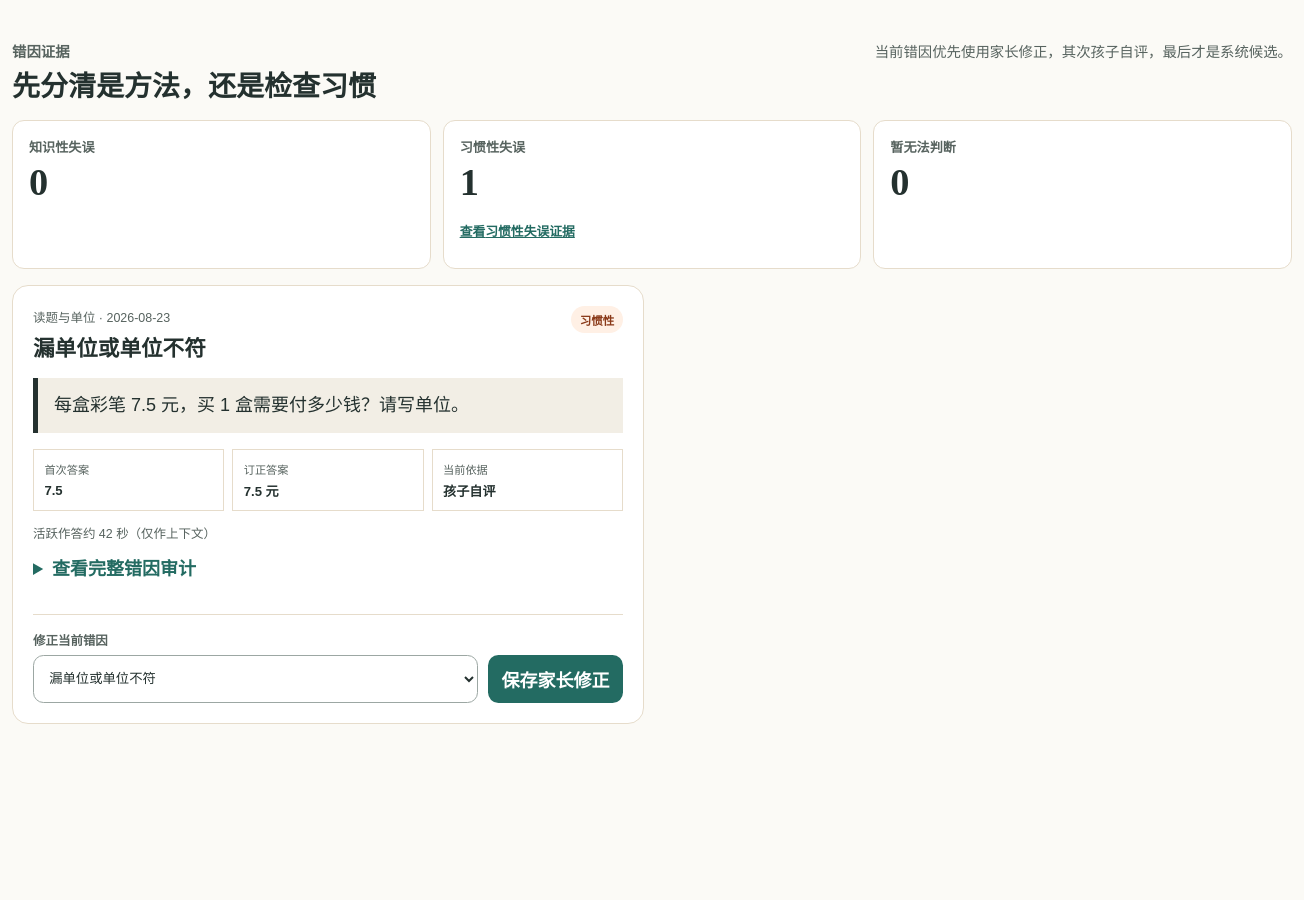
keeps the original audit visible when a correction fails
Click the button "保存家长修正". click: (555, 679)
box: [488,655,623,703]
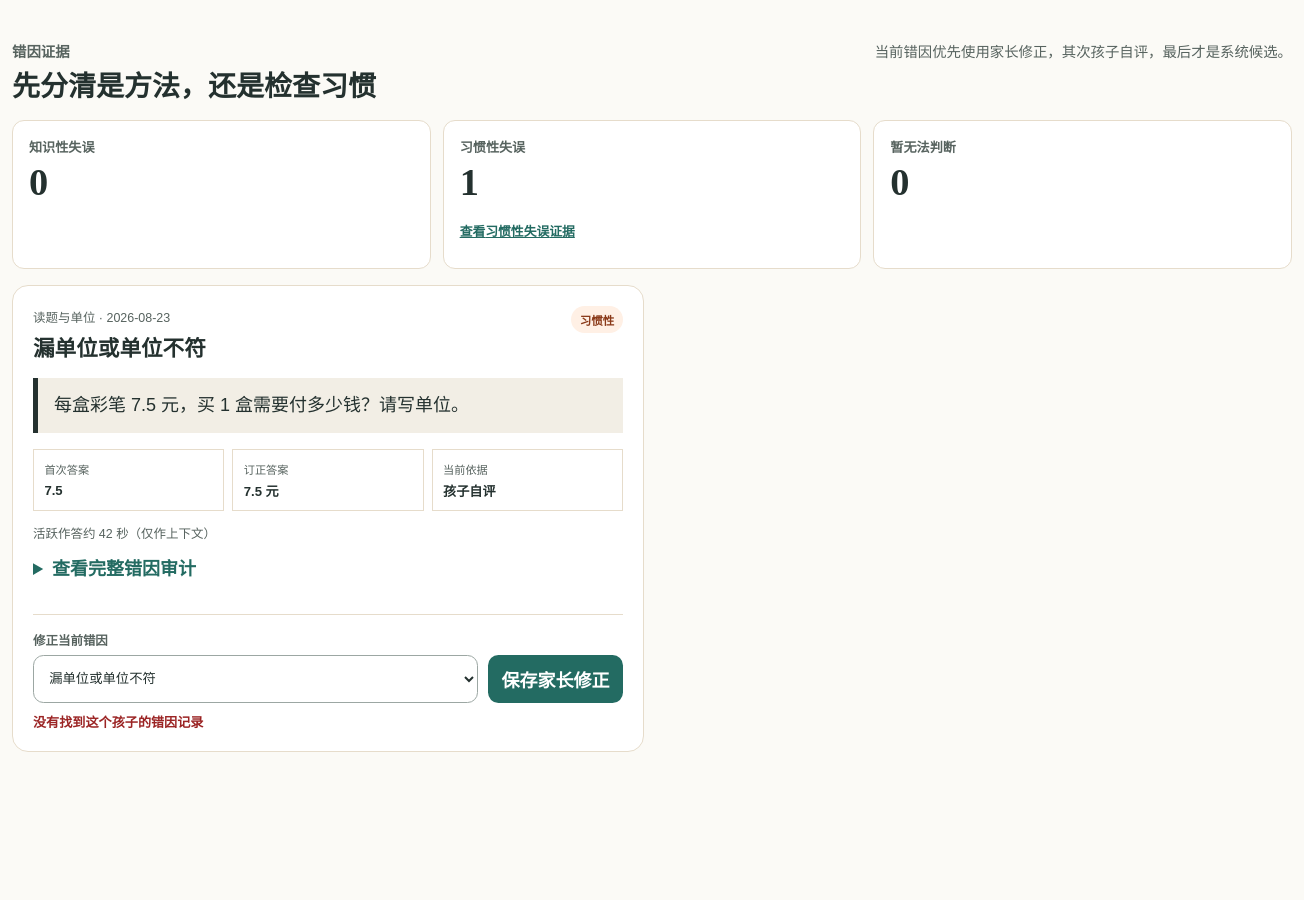
expect the message reads "没有找到这个孩子的错因记录": met, box [33,715,203,730]
